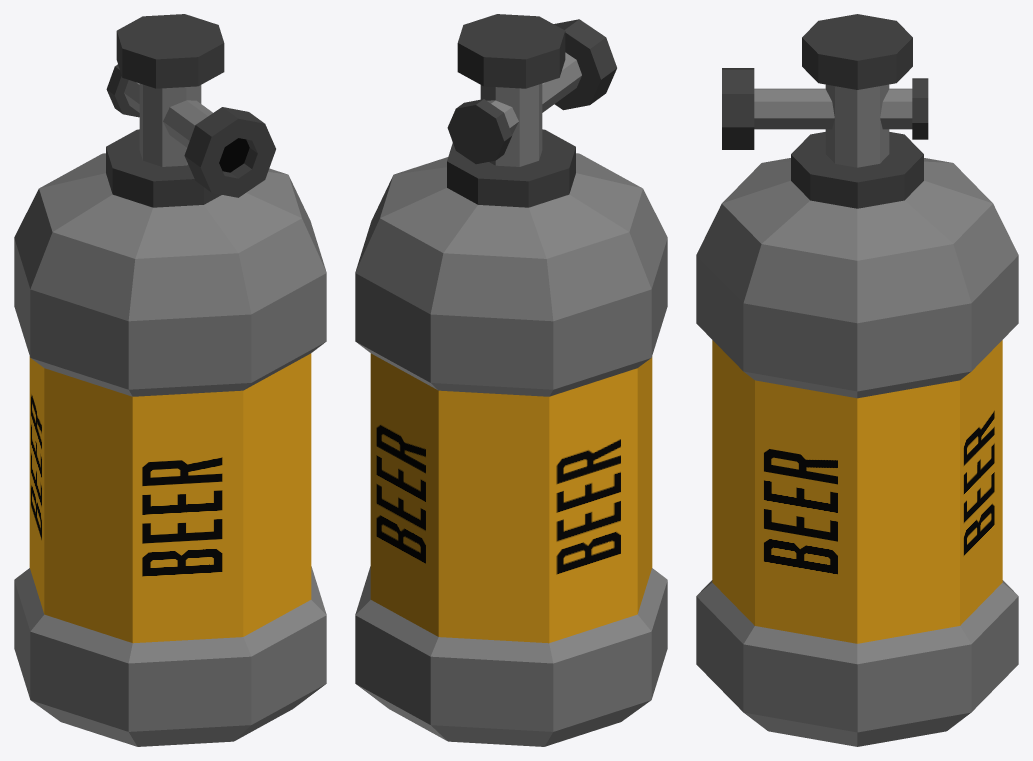
Rendered from CD_Canister_Beer_v1.glb.
3 views of the same model, side by side, from view 1: azimuth 30°, elevation 25°; view 2: azimuth 150°, elevation 25°; view 3: azimuth 270°, elevation 25° (orthographic).
Parts seen in each view (by area): view 1: Canister, LittleThingAtTheTopIDK; view 2: Canister, LittleThingAtTheTopIDK; view 3: Canister, LittleThingAtTheTopIDK.
Part boxes in pixels (left/top/right/bottom): Canister: left=14, top=14, right=326, bottom=746; LittleThingAtTheTopIDK: left=106, top=64, right=275, bottom=197; Canister: left=355, top=14, right=667, bottom=746; LittleThingAtTheTopIDK: left=447, top=19, right=616, bottom=164; Canister: left=696, top=14, right=1018, bottom=746; LittleThingAtTheTopIDK: left=722, top=68, right=928, bottom=149.
Size of the model in its own units: 2 by 4.49 by 2.
Materials: 7 (1 with a texture image).
